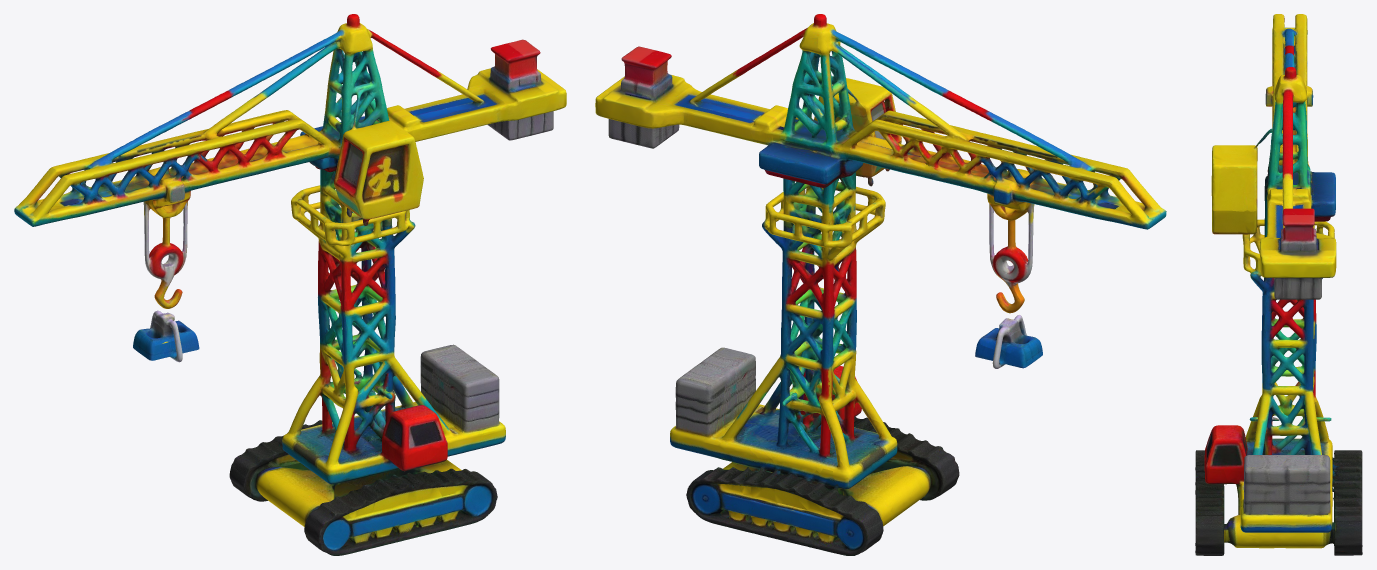
File: crane.glb
3 views of the same model, side by side, from view 1: azimuth 30°, elevation 25°; view 2: azimuth 150°, elevation 25°; view 3: azimuth 270°, elevation 25° (orthographic). The views are drawn at different scales.
Size of the model in its own units: 1.54 by 1.36 by 0.453.
1 material, 1 textured.
